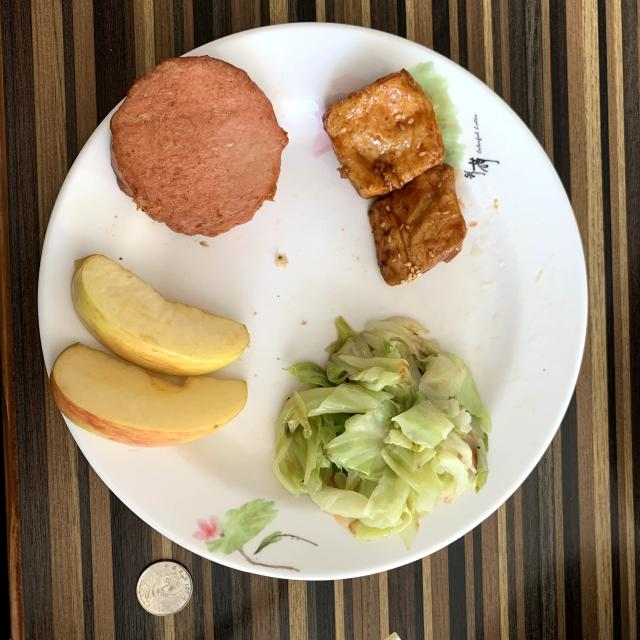Spam: (110, 56, 289, 236)
apple -sliced-: (50, 255, 250, 446)
cabbage: (275, 318, 491, 549)
coin: (136, 561, 192, 616)
creamy tofu: (324, 69, 466, 285)
